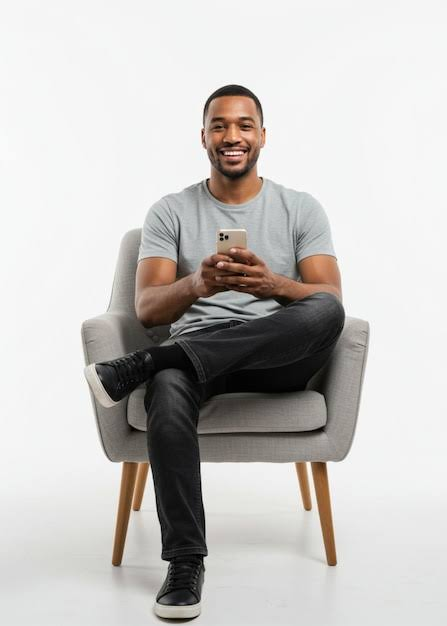Focused: (159, 52, 302, 259)
